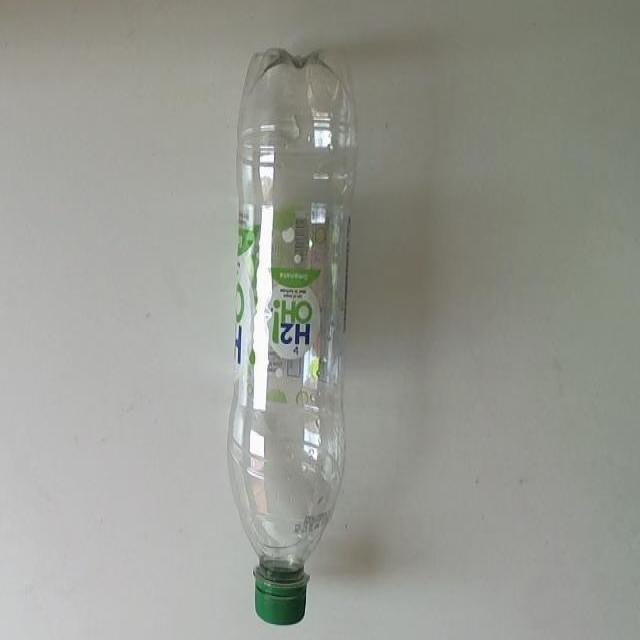non-defect: (225, 46, 361, 624)
